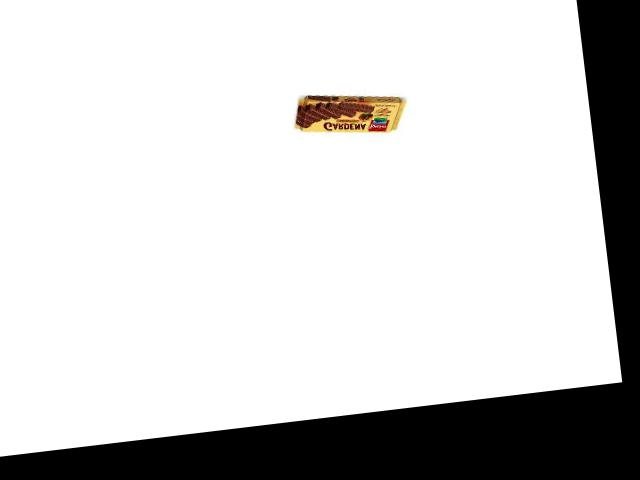chocolate: (286, 88, 413, 145)
